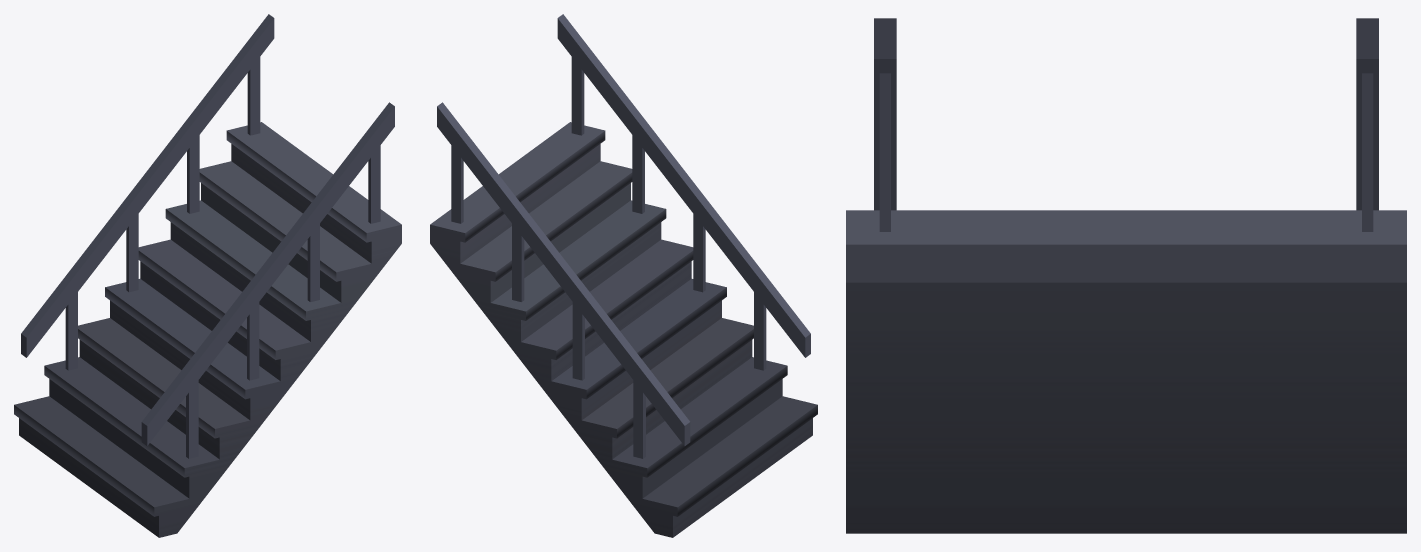
The model's file is stairs-wide-stone-handrail.glb.
The picture shows the model from 3 angles, left to right: view 1: azimuth 30°, elevation 25°; view 2: azimuth 150°, elevation 25°; view 3: azimuth 270°, elevation 25°; orthographic projection. The views are drawn at different scales.
Visible parts, largest first — view 1: stairs-wide-stone-handrail; view 2: stairs-wide-stone-handrail; view 3: stairs-wide-stone-handrail.
Boxes of the visible parts, x1,y1,x2,y2 form: stairs-wide-stone-handrail: [14, 14, 401, 537]; stairs-wide-stone-handrail: [430, 14, 817, 537]; stairs-wide-stone-handrail: [846, 18, 1406, 533].
Bounding box in the file's own units: 1.02 × 1.45 × 1.
Materials: 1 (1 with a texture image).
